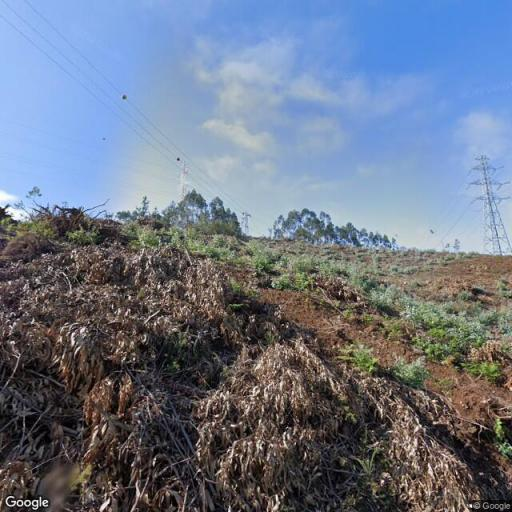ss_3: (466, 153, 510, 258), (174, 159, 193, 203)
